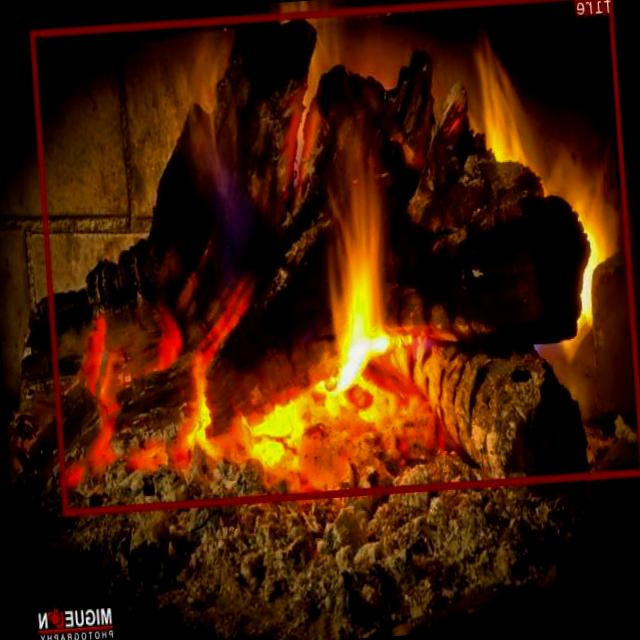fire: (31, 0, 640, 514)
